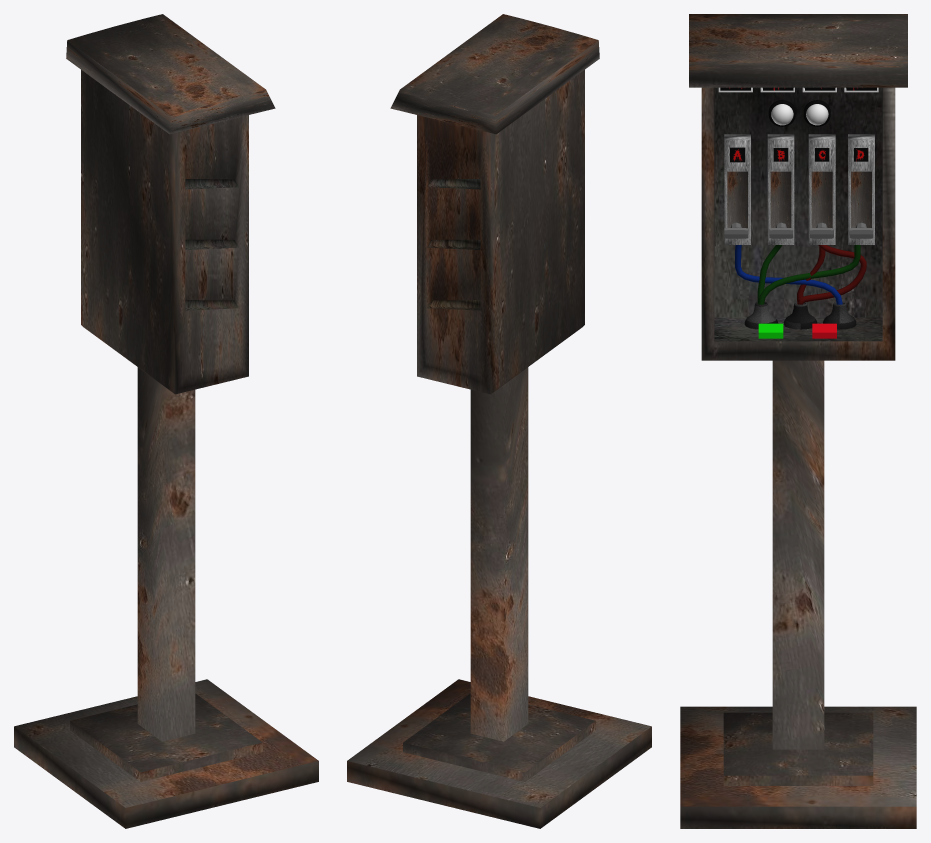
File: NewElectric.fbx
3 renders of one model, left to right at view 1: azimuth 30°, elevation 25°; view 2: azimuth 150°, elevation 25°; view 3: azimuth 270°, elevation 25°, orthographic. The views are drawn at different scales.
Visible parts, largest first — view 1: Cube.013; view 2: Cube.013; view 3: Cube.013, BézierCurve.003, Cube.002, Cube.003, Cube.004, Cube.011.
Boxes of the visible parts, x1,y1,x2,y2 form: Cube.013: [14, 14, 318, 828]; Cube.013: [347, 14, 651, 828]; Cube.013: [680, 14, 916, 828]; BézierCurve.003: [735, 245, 866, 329]; Cube.002: [767, 134, 794, 244]; Cube.003: [808, 134, 835, 244]; Cube.004: [848, 134, 874, 244]; Cube.011: [724, 134, 750, 244].
Bounding box in the file's own units: 91.66 × 91.66 × 318.
Materials: 13 (5 with a texture image).
